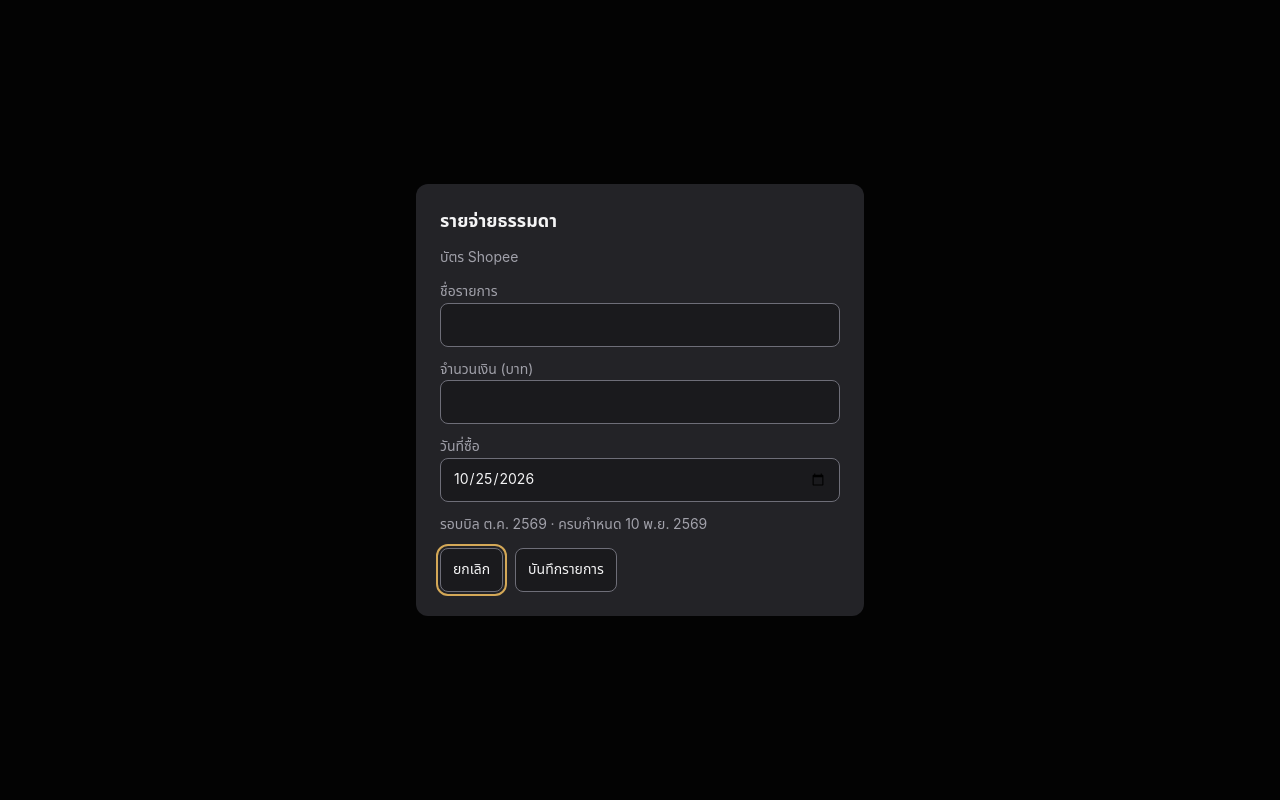
Test case: real 400 without a mappable field focuses the re-enabled submit button
Type "abc" into the field labelled "ชื่อรายการ" at {"x": 640, "y": 325}, box [440,303,840,347]
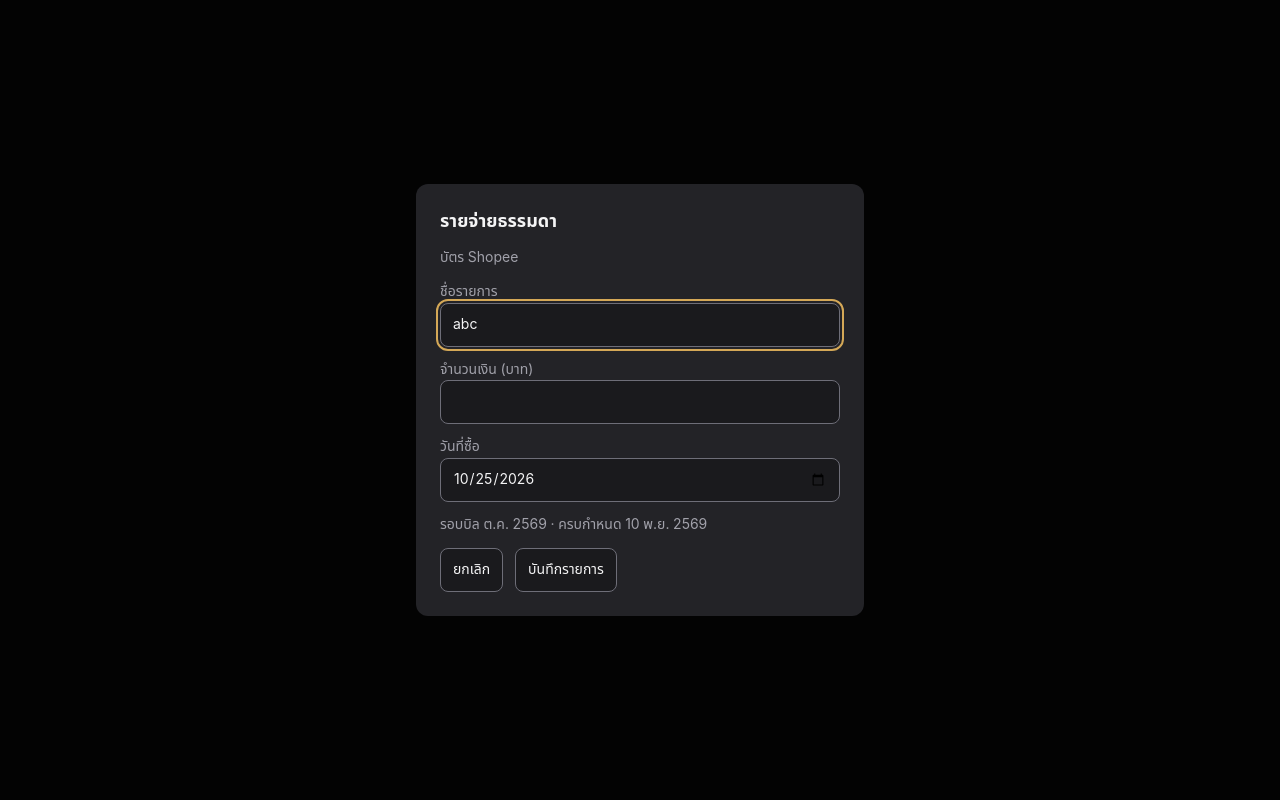
Click the button "บันทึกรายการ" at {"x": 566, "y": 570}, box [515,548,617,592]
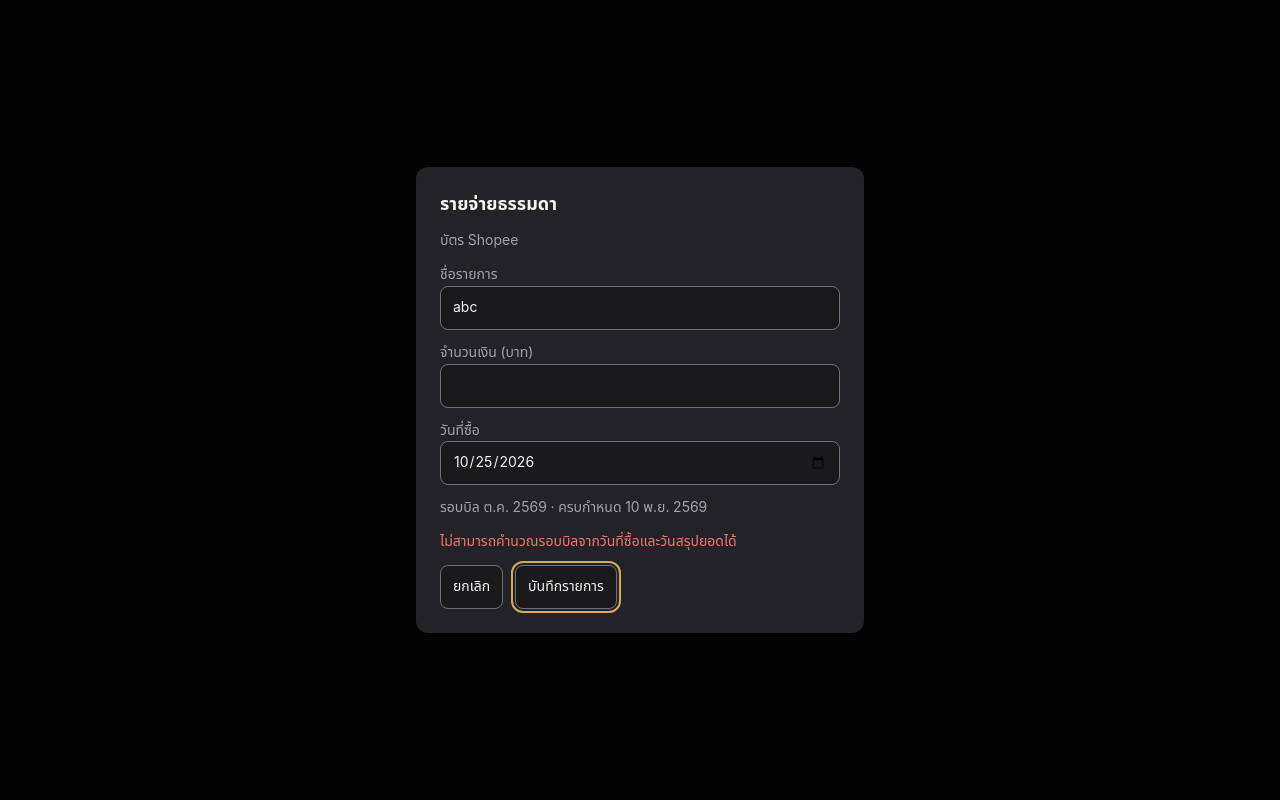
Expected: the message "ไม่สามารถคำนวณรอบบิลจากวันที่ซื้อและวันสรุปยอดได้" is shown, [440,531,737,552]
